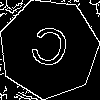C: (23, 23, 73, 79)
